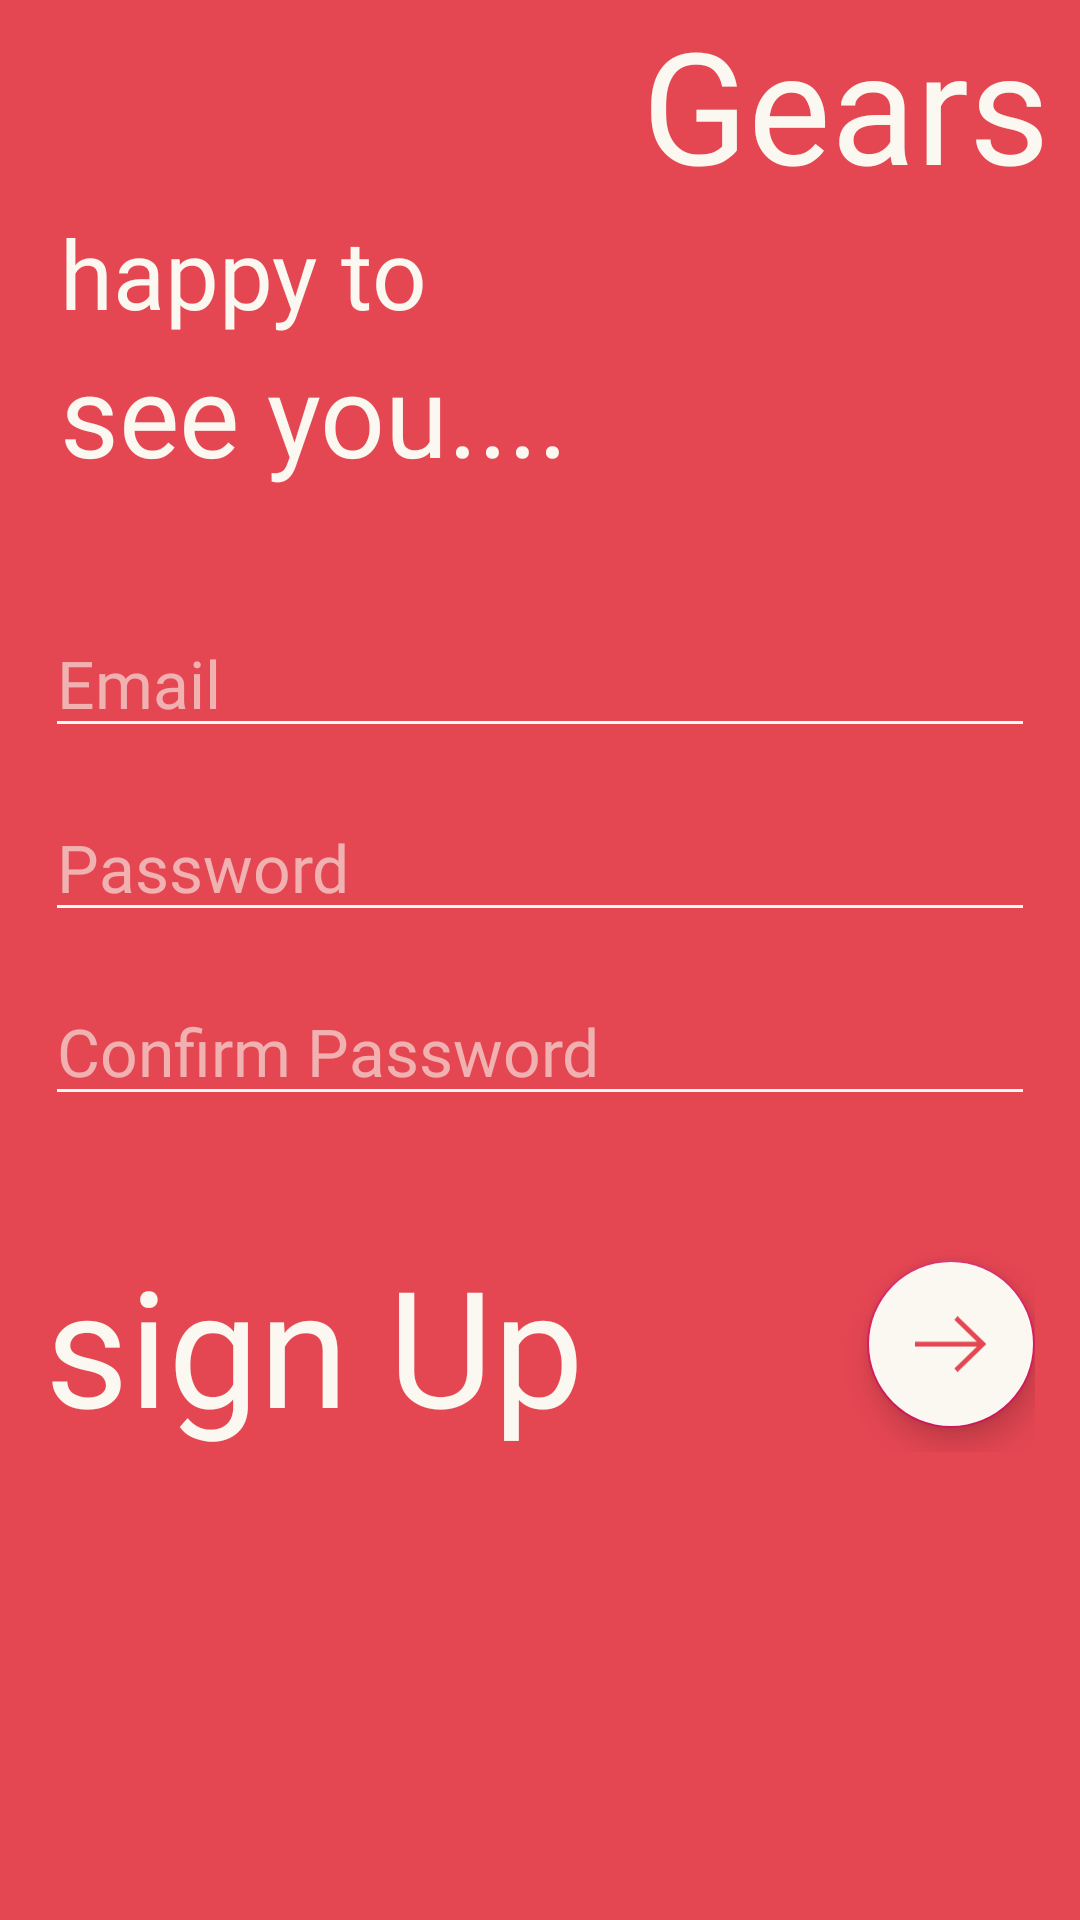

Screen size 1080*1920. Icon name, then its center in pixels as (x=x, y=y):
forward: (x=951, y=1344)
